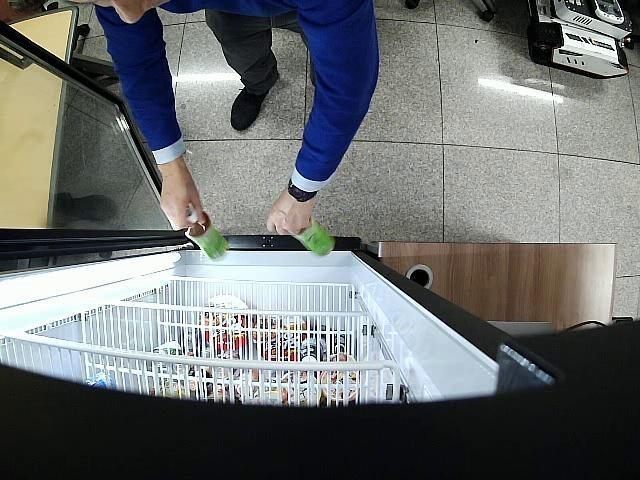19_17cha: (185, 207, 229, 262), (294, 217, 334, 256)
